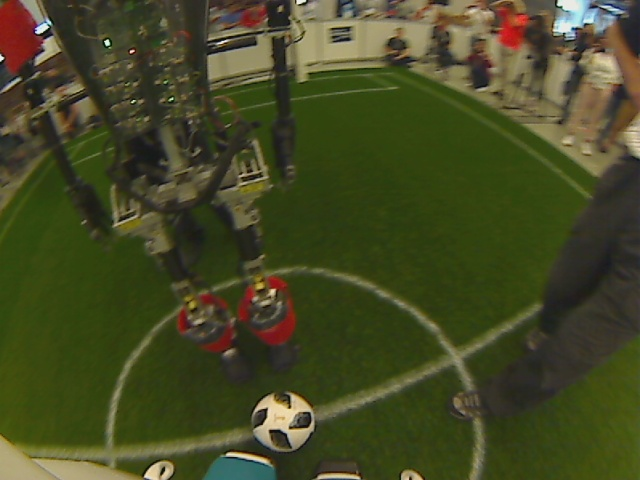ball: (247, 386, 321, 456)
